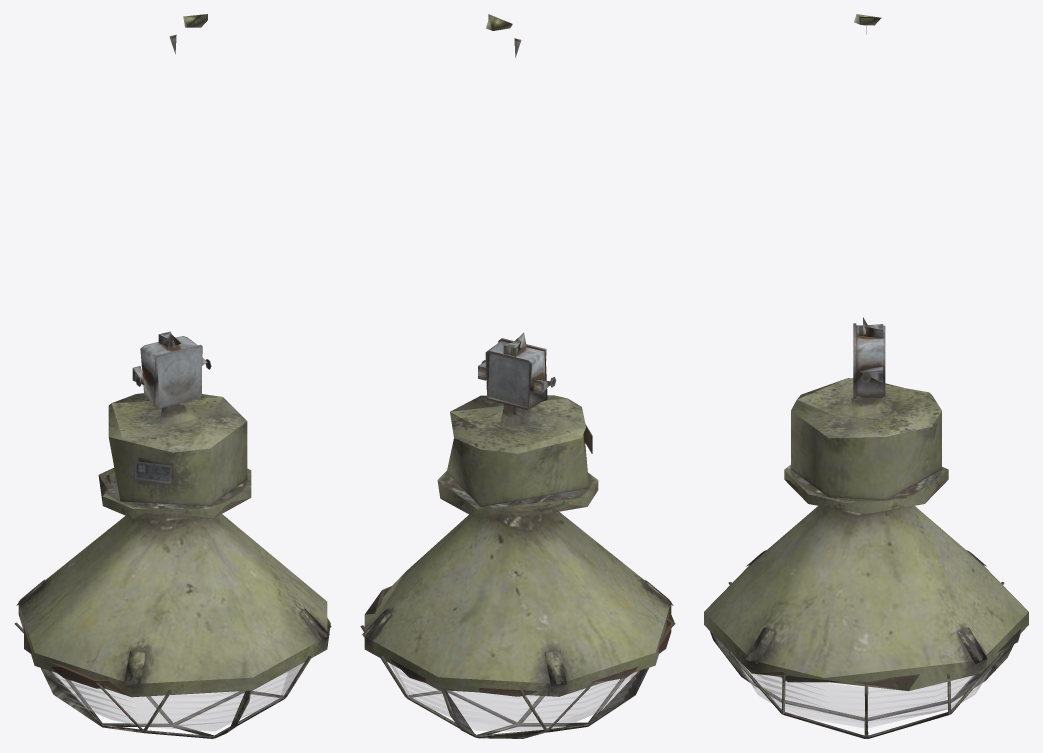
Rendered from hanging_lamp.glb.
3 renders of one model, left to right at view 1: azimuth 30°, elevation 25°; view 2: azimuth 150°, elevation 25°; view 3: azimuth 270°, elevation 25°, orthographic. The views are drawn at different scales.
Visible parts, largest first — view 1: hanging_industrial_lamp; view 2: hanging_industrial_lamp; view 3: hanging_industrial_lamp.
Part boxes in pixels (x1=…): hanging_industrial_lamp: x1=14, y1=14, x2=331, y2=738; hanging_industrial_lamp: x1=360, y1=14, x2=675, y2=738; hanging_industrial_lamp: x1=704, y1=14, x2=1028, y2=738.
Size of the model in its own units: 0.5462 by 1.34 by 0.5496.
2 materials, 1 textured.
